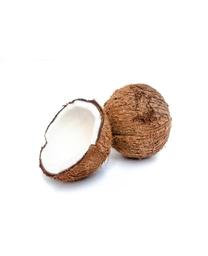coconut: (39, 97, 113, 183), (102, 84, 172, 160)
